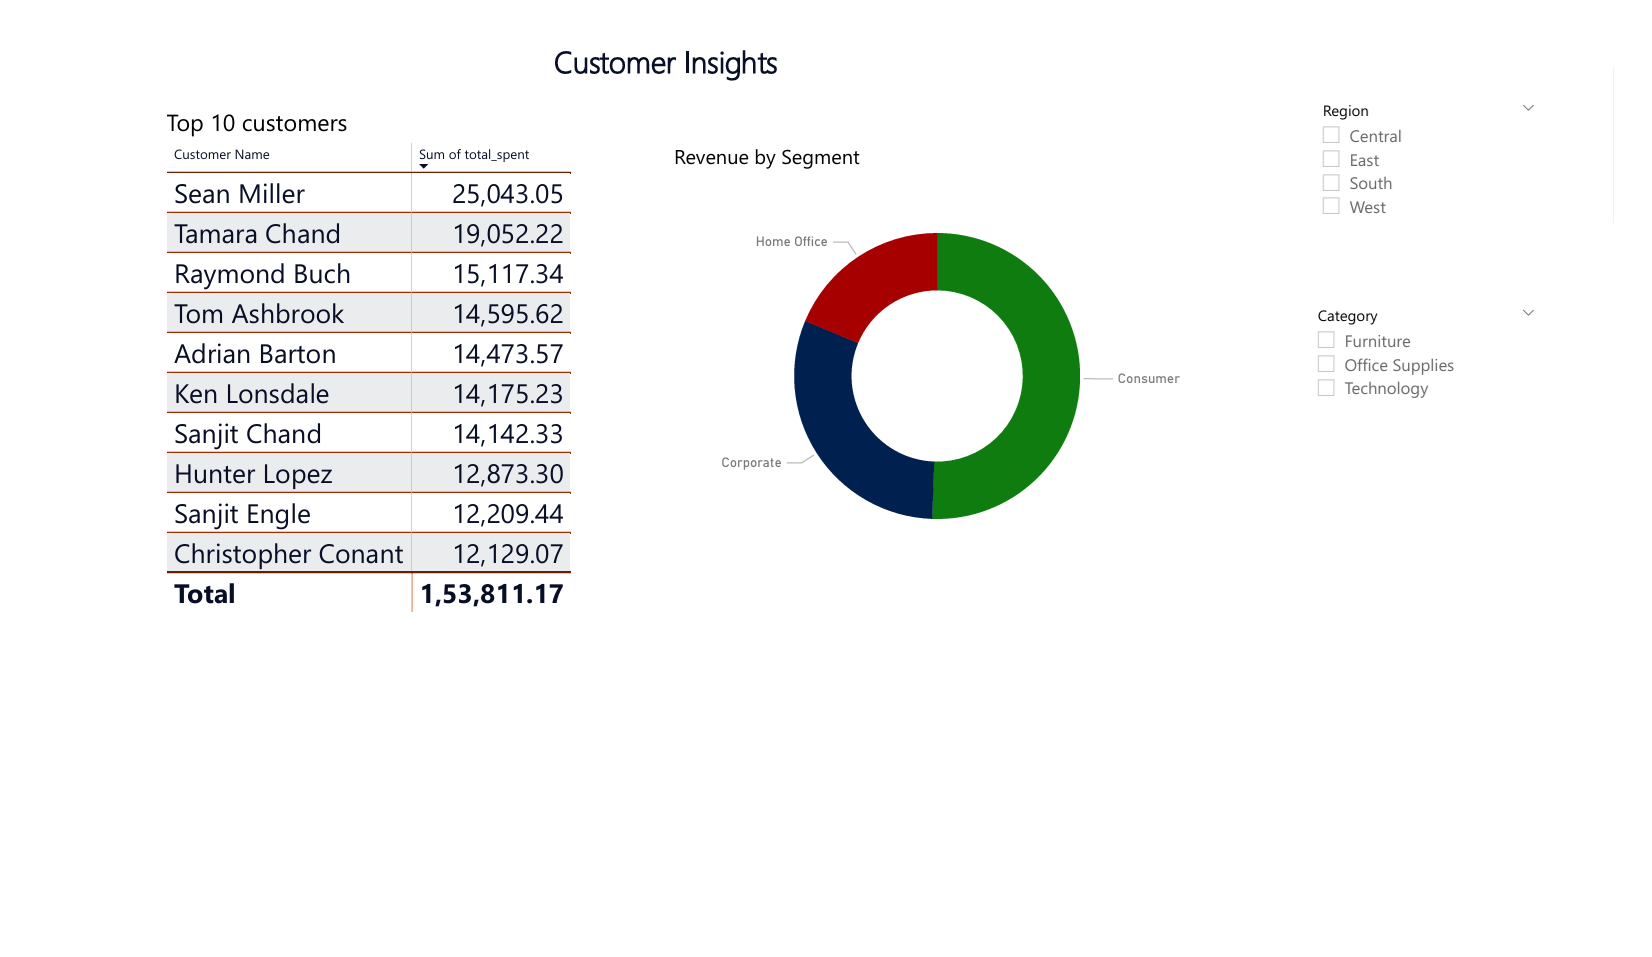

The dashboard page shown, as its layout file describes it:
{"tool":"powerbi","page":{"name":"Page 3","canvas":[1280,720],"ordinal":2},"visuals":[{"type":"tableEx","title":"Top 10 customers","fields":{"Values":["top_customers.Customer Name","Sum(top_customers.total_spent)"]},"box":[117.1,67.1,384.3,442.9],"z":0},{"type":"donutChart","title":"Revenue by Segment","fields":{"Category":["Superstore_clean.Segment"],"Y":["Sum(Superstore_clean.Sales)"]},"box":[522.9,97.1,431.4,350],"z":1000},{"type":"textbox","box":[427.1,10,224.3,47.1],"z":2000},{"type":"slicer","fields":{"Values":["revenue_by_region.Region"]},"box":[1034.3,57.1,194.3,140],"z":3000},{"type":"slicer","fields":{"Values":["Superstore_clean.Category"]},"box":[1030,221.4,198.6,134.3],"z":4000}]}

Visuals, with their boxes in screenshot pixels (x1, y1, x2, y2), scaled from the page's 1280x720 canvas onto the 1652x957 screenshot:
"Top 10 customers" tableEx: (x1=151, y1=89, x2=647, y2=678)
"Revenue by Segment" donutChart: (x1=675, y1=129, x2=1232, y2=594)
textbox: (x1=551, y1=13, x2=841, y2=76)
slicer - revenue_by_region.Region: (x1=1335, y1=76, x2=1586, y2=262)
slicer - Superstore_clean.Category: (x1=1329, y1=294, x2=1586, y2=473)
